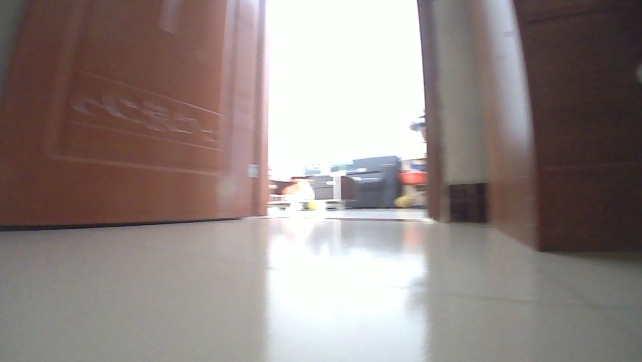door_anno: (0, 0, 272, 232)
sofa1: (332, 156, 400, 207)
